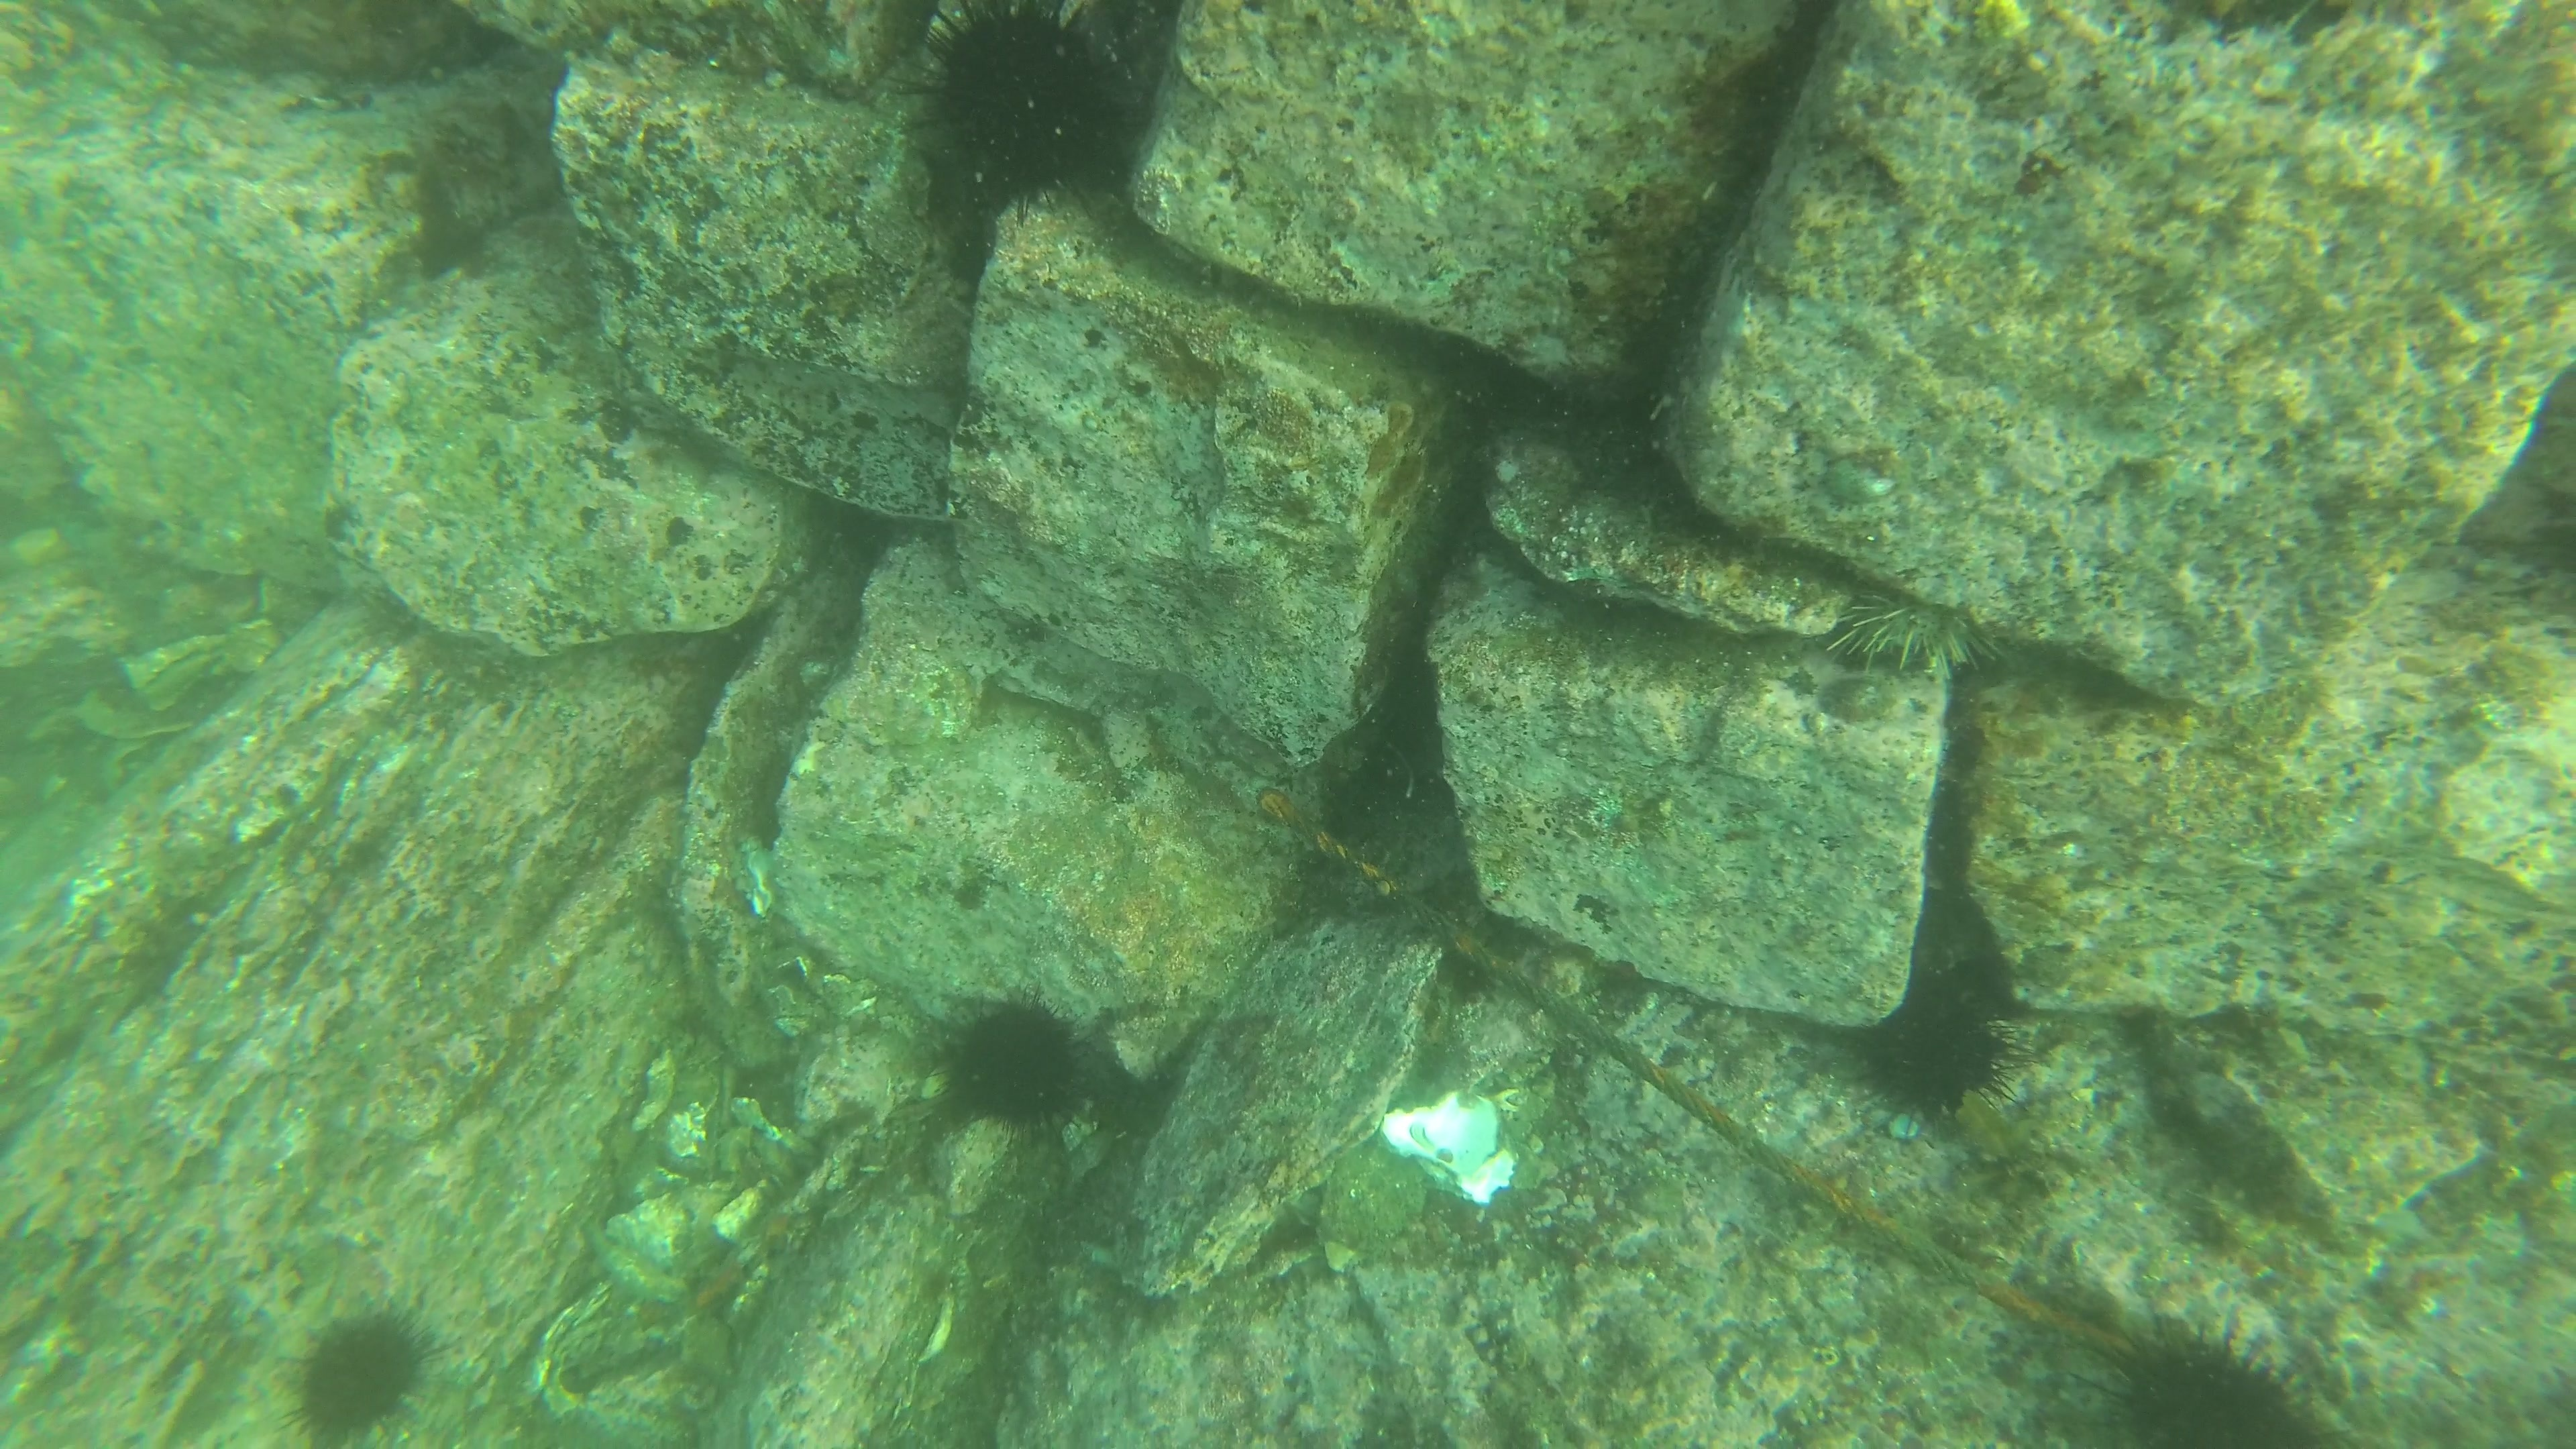echinus: (911, 0, 1136, 205), (2093, 1323, 2309, 1449), (1867, 977, 2024, 1127), (278, 1304, 435, 1449), (1828, 570, 2029, 678), (948, 987, 1081, 1122)
